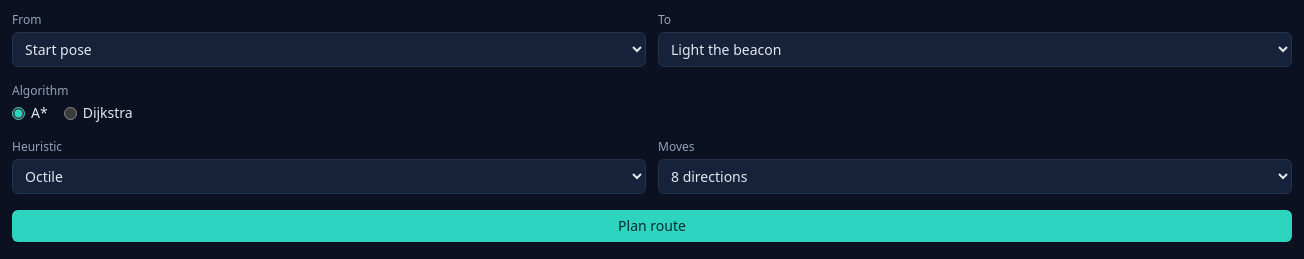
it: RoutePanel › disables the heuristic for Dijkstra
This screenshot has width=1304, height=259.
Click the radio button labelled "Dijkstra": (70, 113) [64, 106, 77, 120]
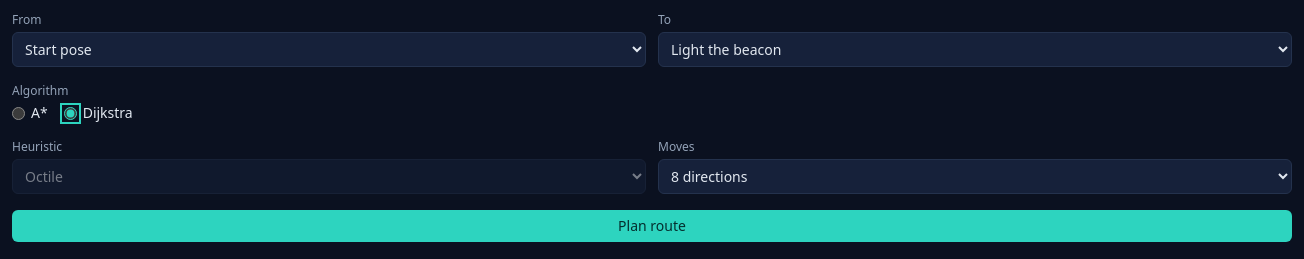
Expected: the dropdown labelled "Heuristic" is disabled, [12, 159, 646, 194]
